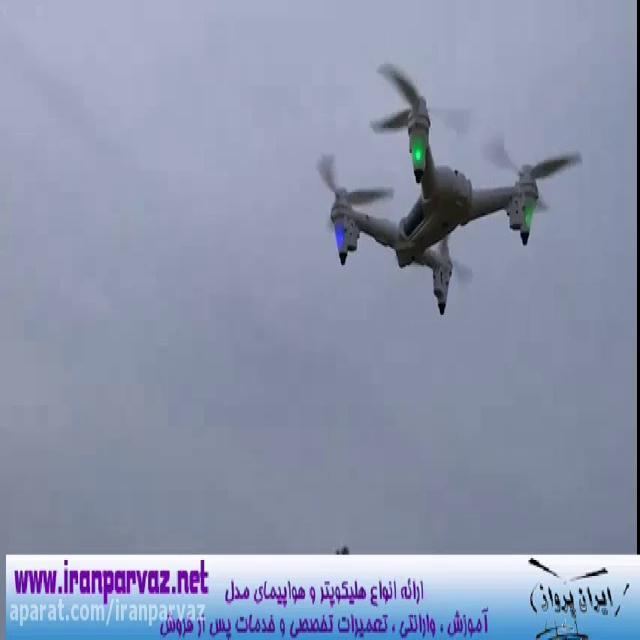drone: (307, 46, 591, 320)
